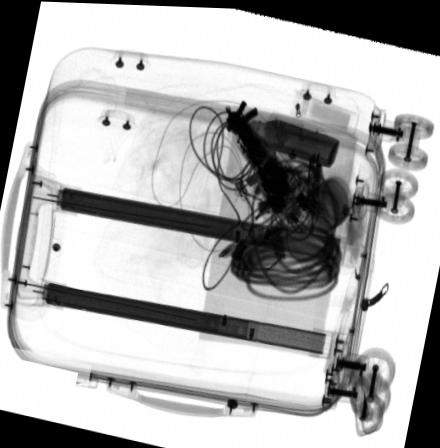Gun: (224, 97, 286, 197)
